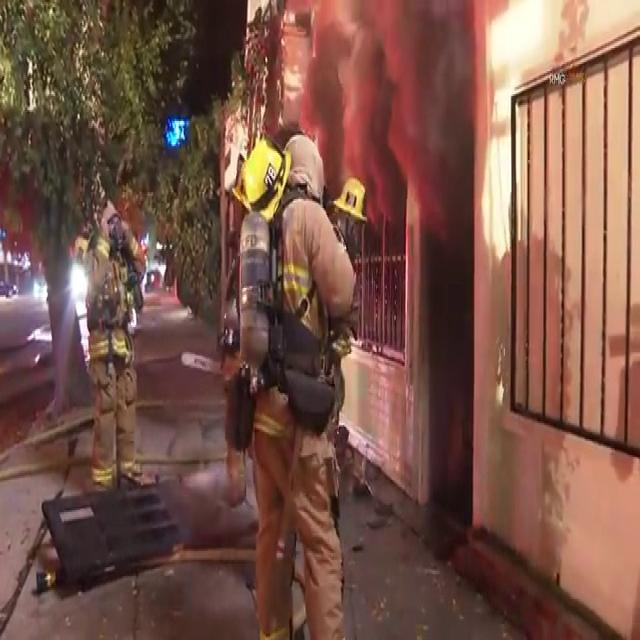Smoke: (311, 0, 481, 224)
